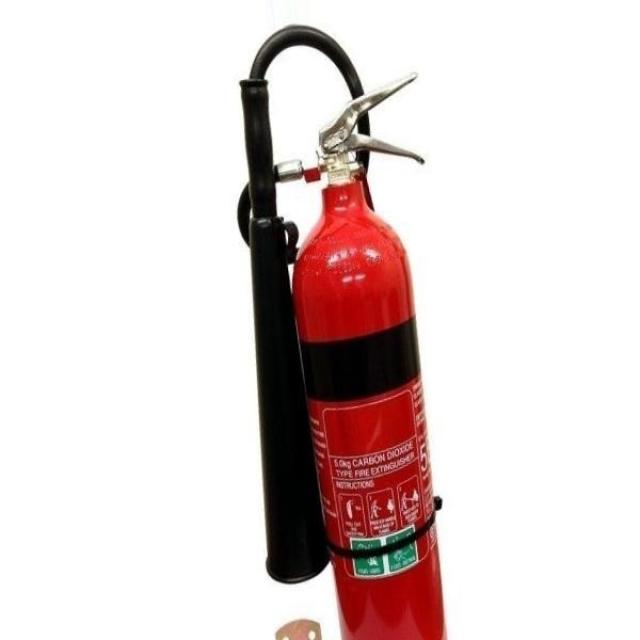fire_extinguisher: (230, 18, 454, 639)
